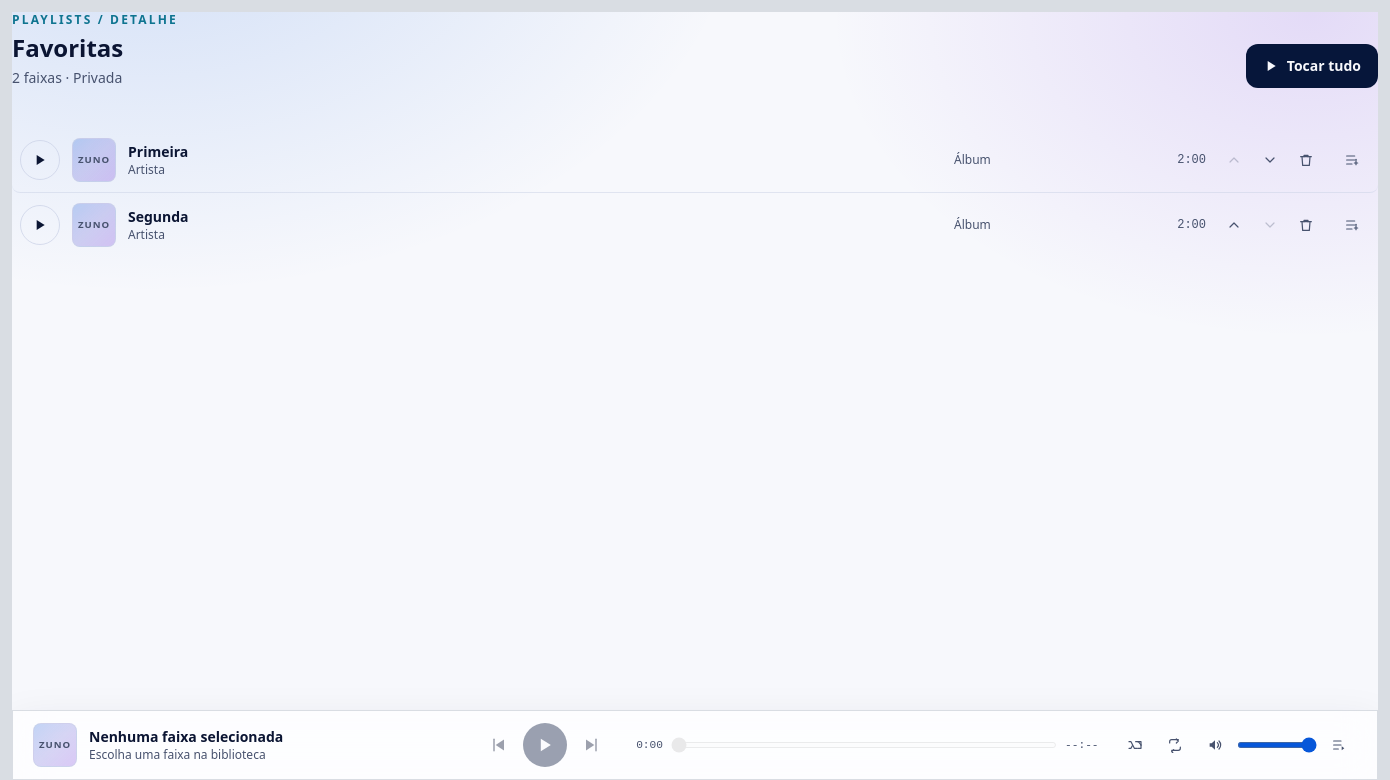
Test: PlaylistDetailView › toca tudo carregando a fila do player existente
The width and height of the screenshot is (1390, 780).
Check: the text "Primeira" is shown, box [128,142,188,161]
What coordinates should you click on to do the following:
click the button "Tocar tudo"
I would click on:
 (1312, 66)
Its box is [1246,44,1378,88].
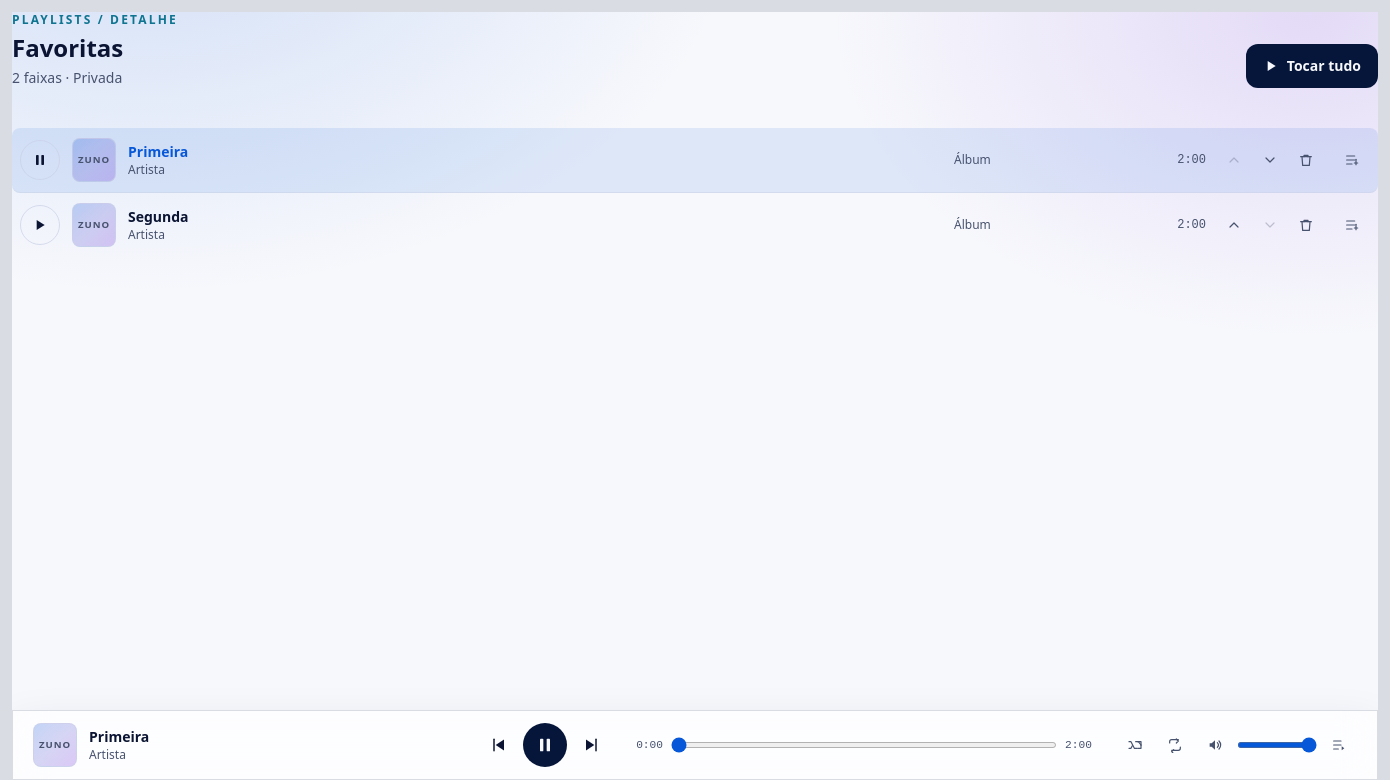
Check: the button named "Pausar" is shown, box [523,723,567,767]
